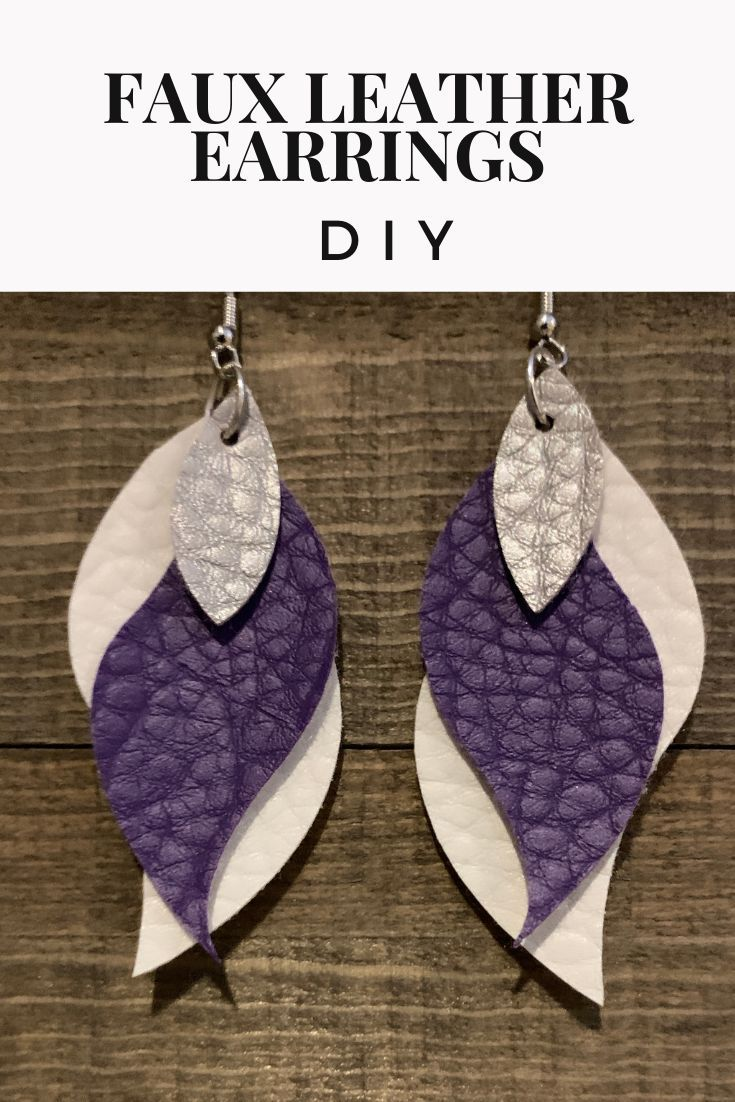cuero: (91, 463, 665, 964)
